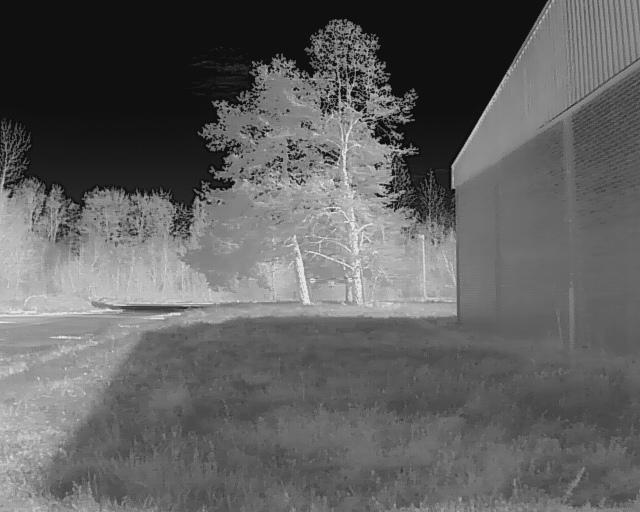drone: (296, 270, 365, 298)
